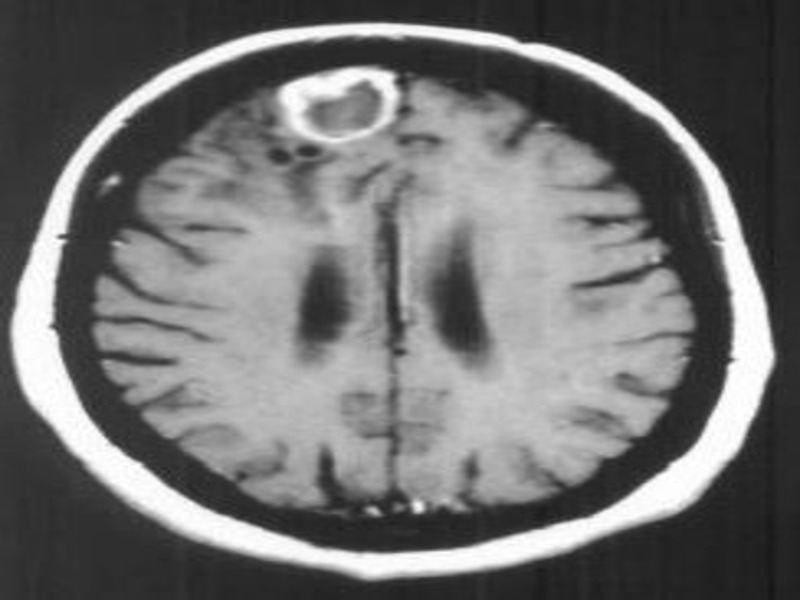tumor: (271, 58, 409, 158)
